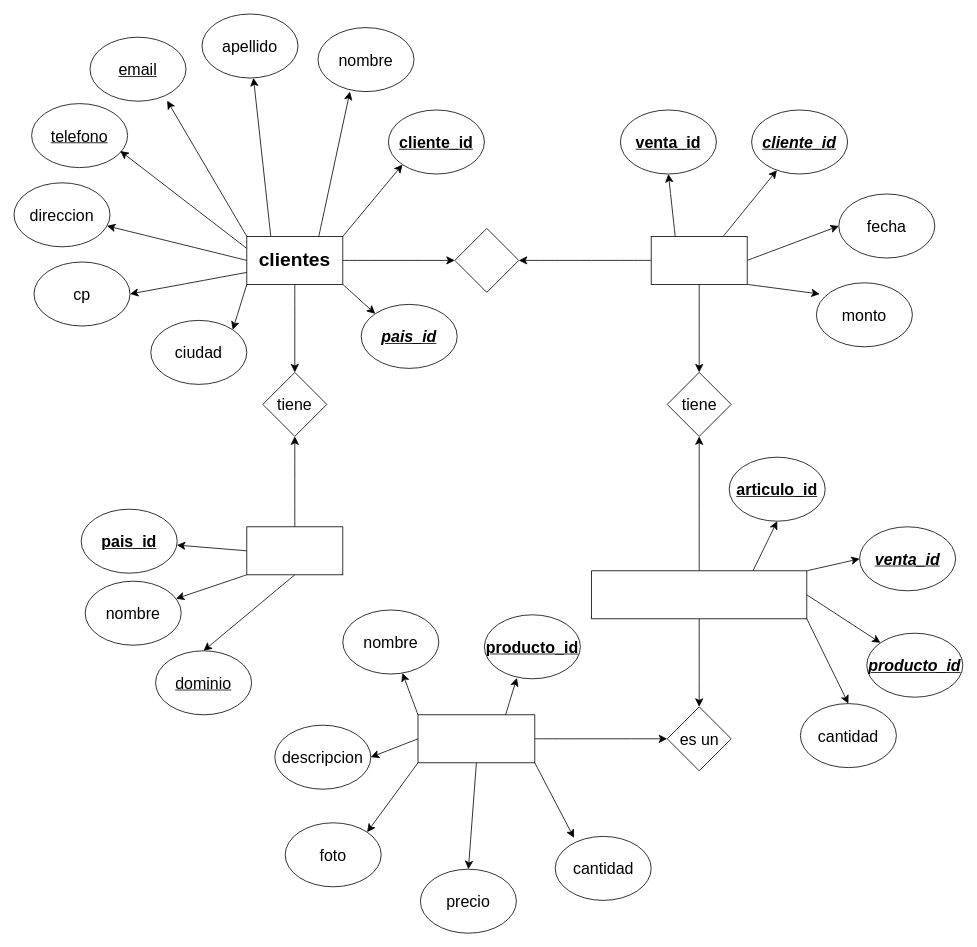
This 977x947 diagram has some shape labels left out. Each missing label, with the box of its shape:
articulos_por_venta: (591, 570, 807, 619)
genera: (454, 228, 519, 292)
paises: (246, 526, 343, 575)
productos: (417, 714, 535, 763)
ventas: (650, 236, 747, 284)
